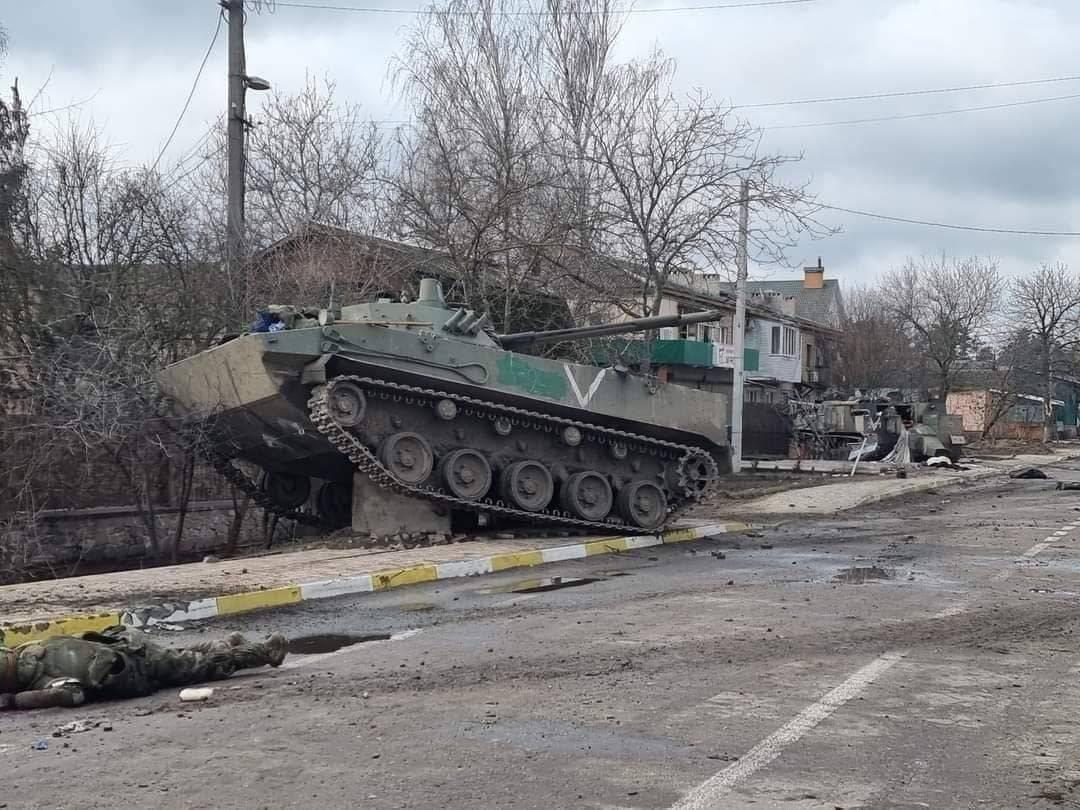tank: (173, 293, 717, 533), (794, 384, 970, 468)
